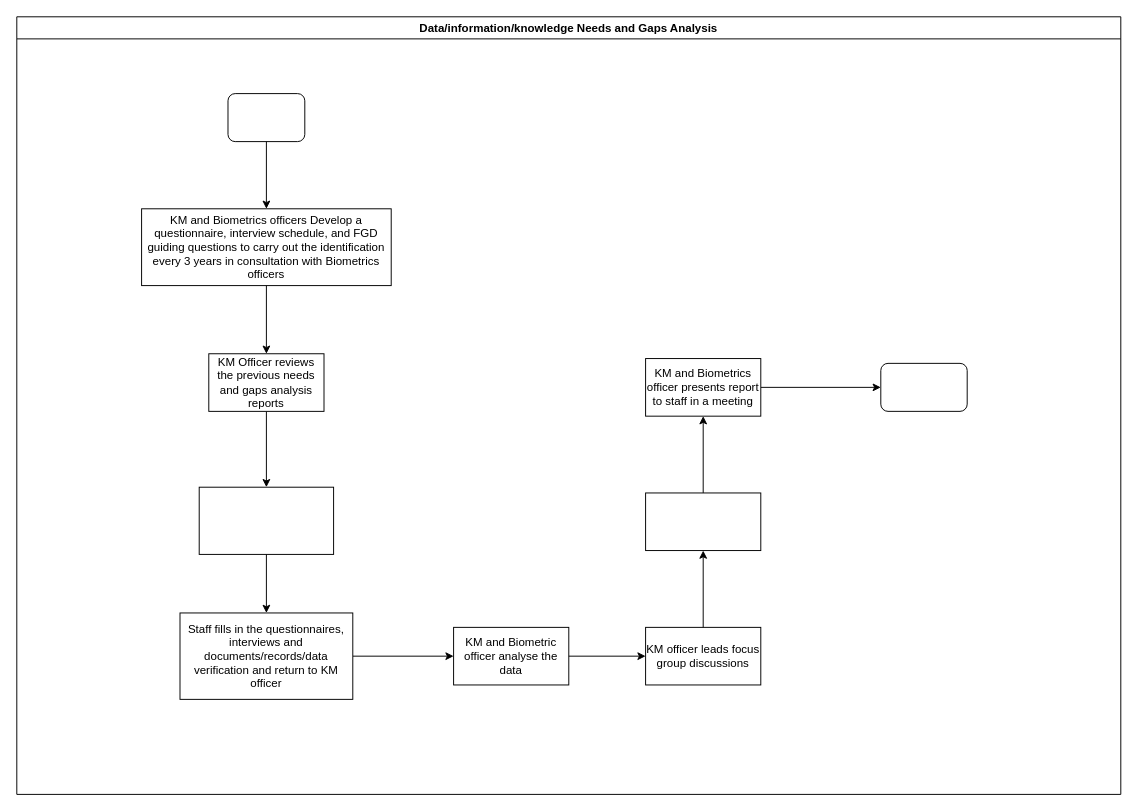
The diagram is 1138 pixels wide and 811 high, and some of its shapes have lost their labels. The centre of each missing label's shape, as x and y in pixels:
"End" belongs at (923,386).
"KM and Biometric officer prepare final report" belongs at (703,521).
"KM officer shares the data collection materials with staff" belongs at (266,520).
"Start" belongs at (266,117).
